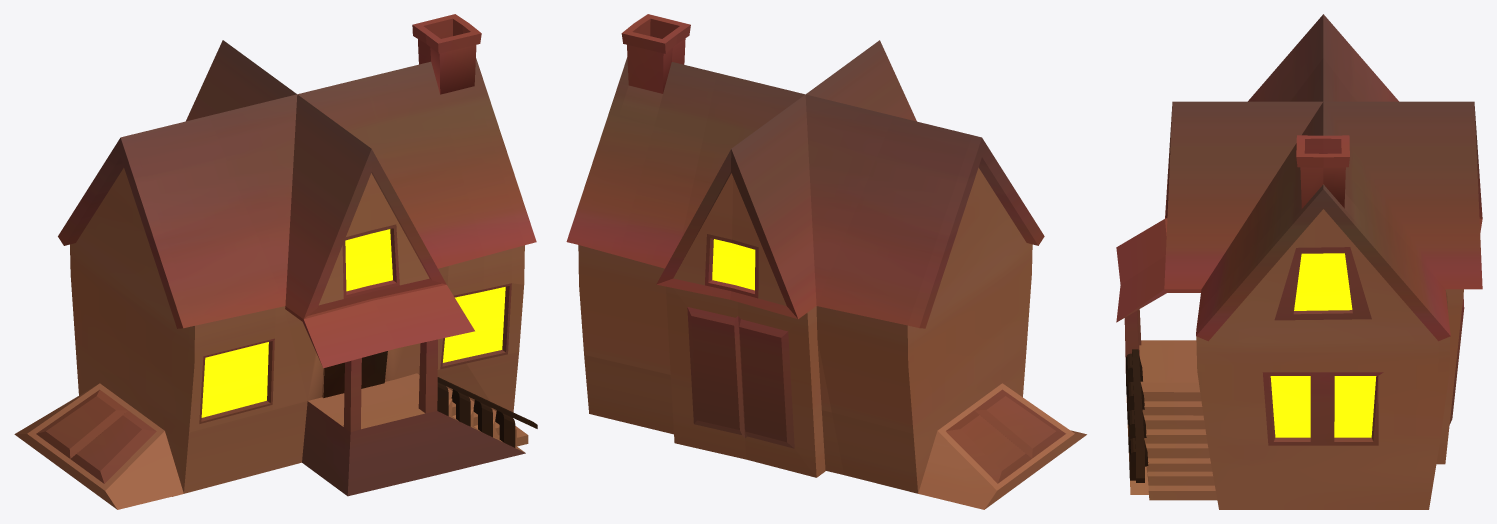
The model's file is HomeSweetHome.glb.
3 renders of one model, left to right at view 1: azimuth 30°, elevation 25°; view 2: azimuth 150°, elevation 25°; view 3: azimuth 270°, elevation 25°, orthographic.
Visible parts, largest first — view 1: HomeSweetHome; view 2: HomeSweetHome; view 3: HomeSweetHome.
Boxes of the visible parts, box(x1,y1,x2,y2) form: HomeSweetHome: box(14, 14, 537, 509); HomeSweetHome: box(566, 14, 1086, 509); HomeSweetHome: box(1116, 14, 1482, 509).
Bounding box in the file's own units: 12.48 × 10.28 × 9.56.
Materials: 2 (2 with a texture image).
